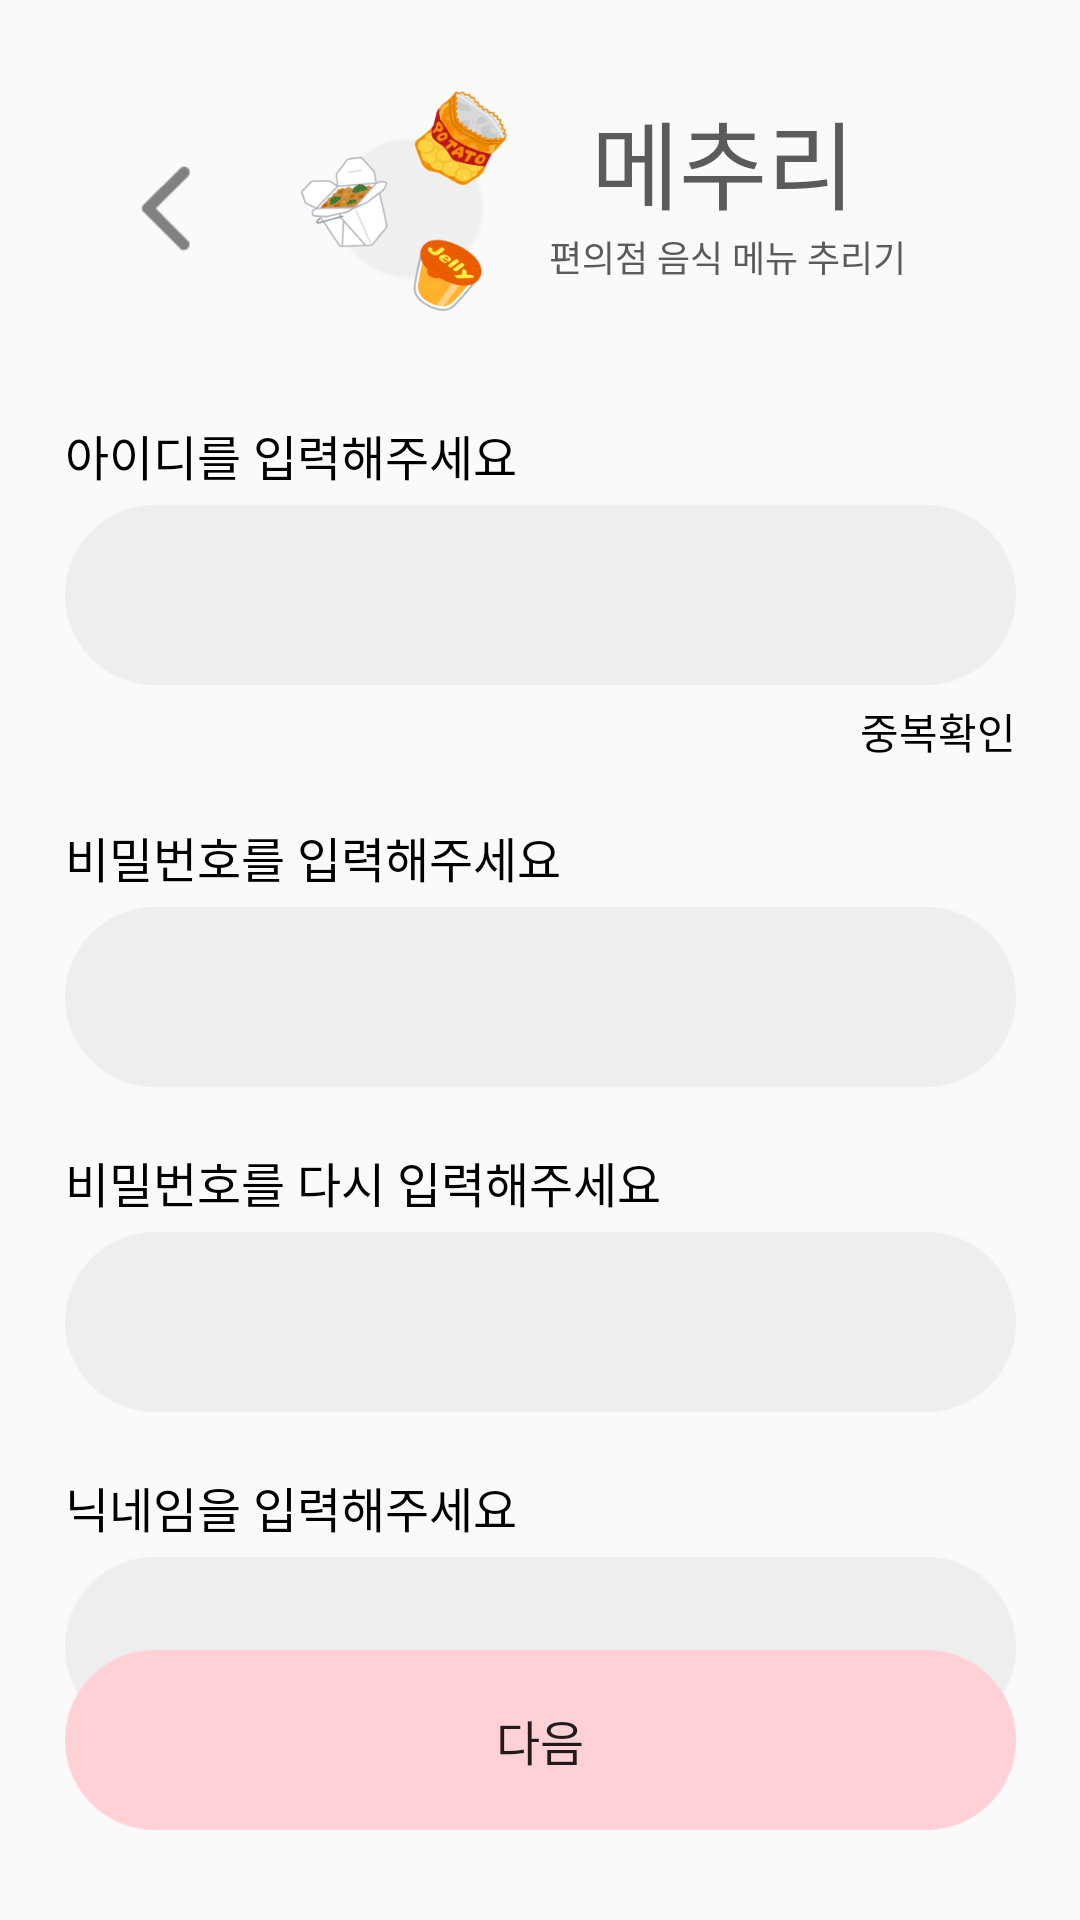

Locate icon controls on the screen. Image size 1080 x 1920, boxes as (x1, y1, x2, y2).
backpressbtn: (142, 166, 190, 251)
mainicon: (301, 91, 507, 311)
